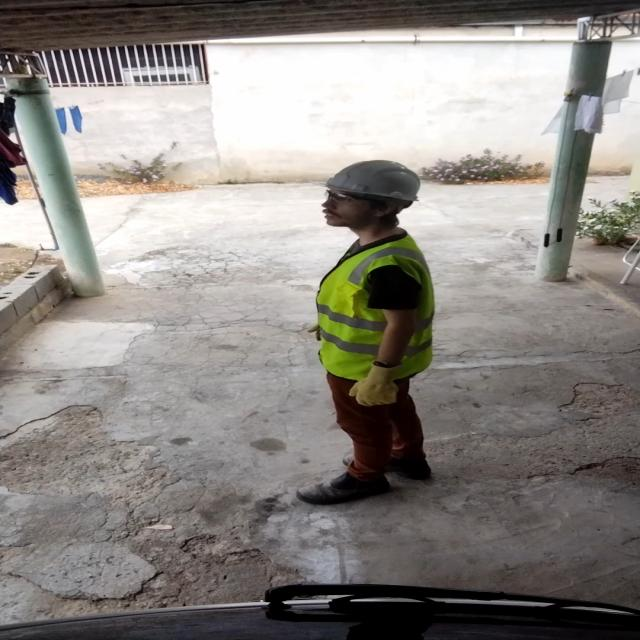glove: (342, 356, 421, 407)
helmet: (311, 158, 430, 214)
pants: (316, 380, 432, 470)
vest: (320, 232, 441, 380)
